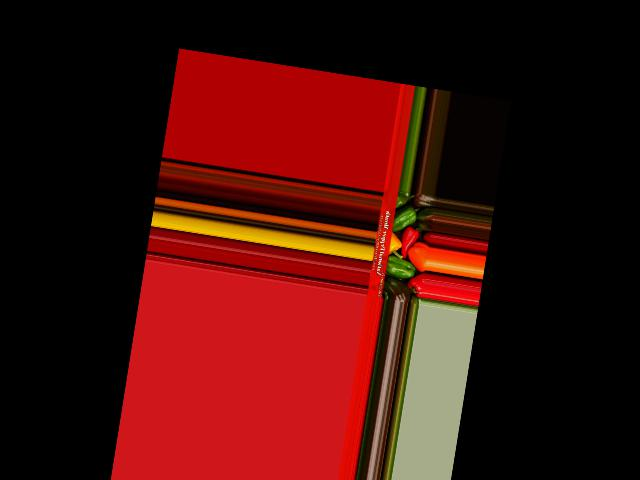bell_pepper: (381, 277, 412, 302)
